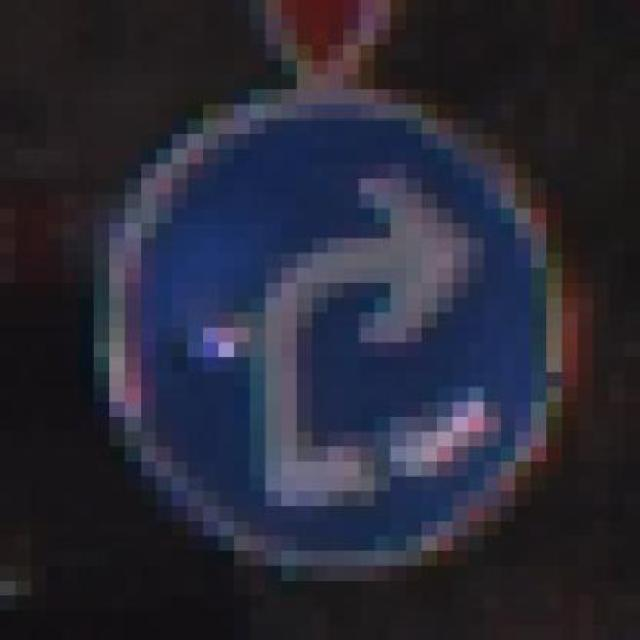Turn right ahead: (93, 74, 578, 580)
